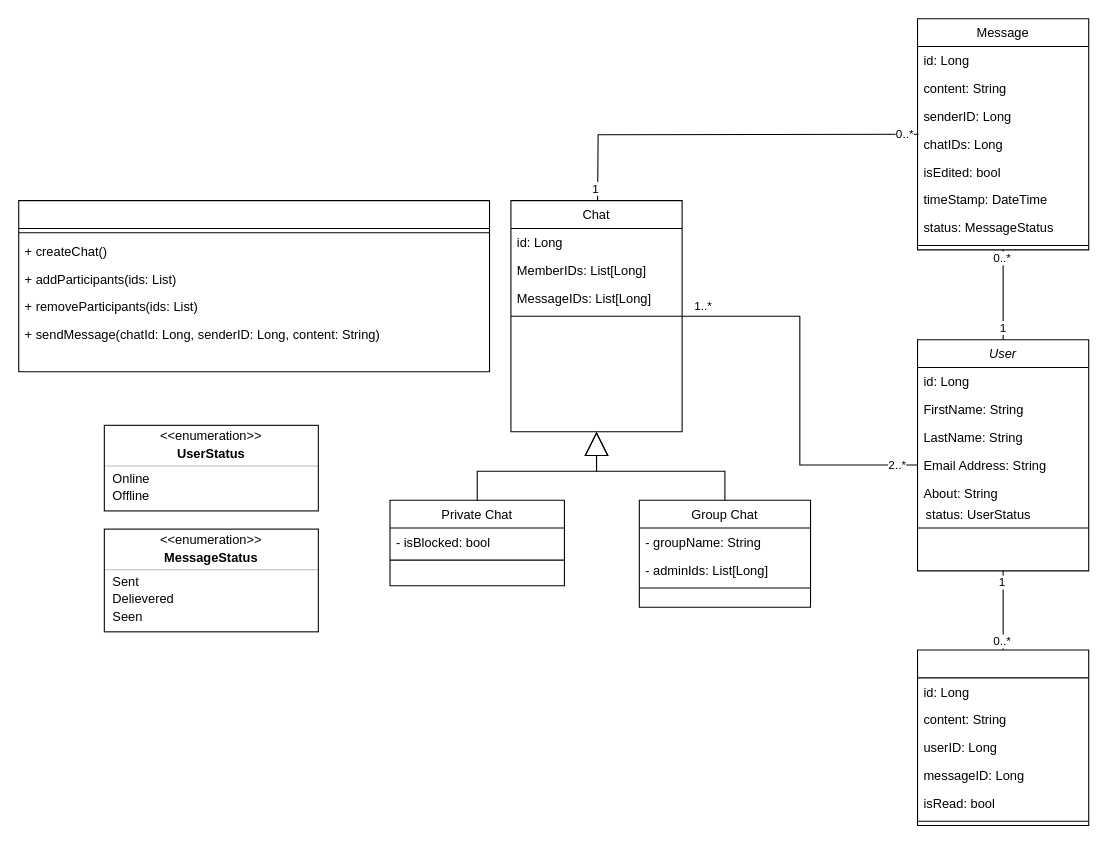
Some shapes in this 1107 by 844 pixel diagram are drawn without their labels. Each missing label, with the box of its shape:
ChatService: (18, 200, 490, 372)
Notification: (916, 649, 1089, 826)
